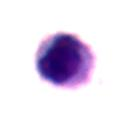lymphocyte: (34, 27, 96, 91)
